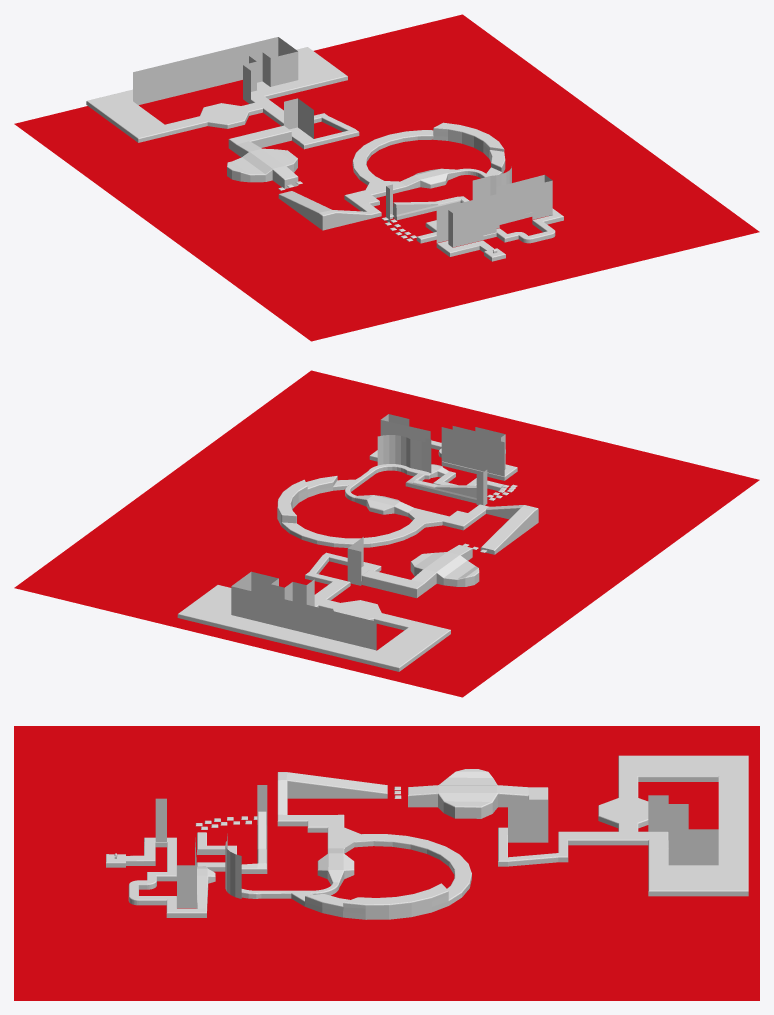
Rendered from nivel2.fbx.
The picture shows the model from 3 angles, top to bottom: view 1: azimuth 30°, elevation 25°; view 2: azimuth 150°, elevation 25°; view 3: azimuth 270°, elevation 25°; orthographic projection. The views are drawn at different scales.
Parts seen in each view (by area): view 1: Plane, Level.Lv0, Level.Paredes.Lv0; view 2: Plane, Level.Lv0, Level.Paredes.Lv0; view 3: Plane, Level.Lv0, Level.Paredes.Lv0.
Boxes of the visible parts, box(x1,y1,x2,y2) form: Plane: box(14, 14, 759, 341); Level.Lv0: box(86, 47, 563, 261); Level.Paredes.Lv0: box(133, 37, 552, 247); Plane: box(14, 370, 759, 697); Level.Lv0: box(177, 440, 538, 671); Level.Paredes.Lv0: box(231, 414, 505, 650); Plane: box(14, 726, 759, 1000); Level.Lv0: box(106, 755, 748, 919); Level.Paredes.Lv0: box(155, 785, 718, 908).
Size of the model in its own units: 52653 by 4340 by 60425.
